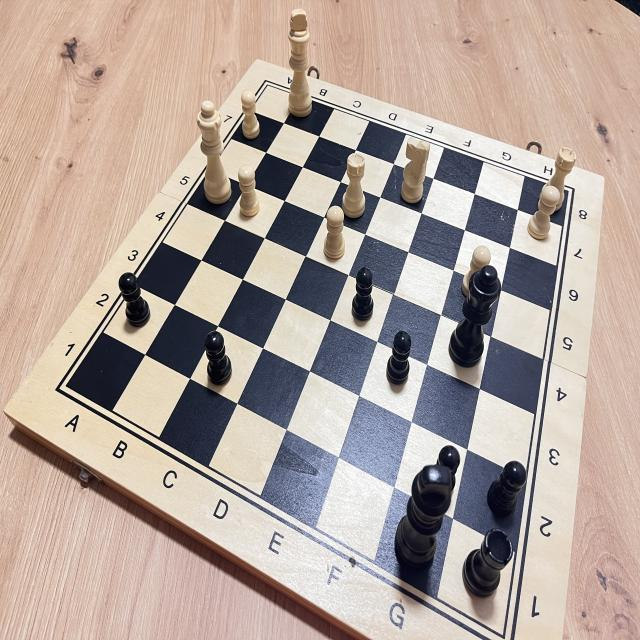black-king: (391, 454, 456, 590)
black-pawn: (484, 450, 529, 530), (428, 436, 466, 509), (199, 318, 238, 389), (114, 268, 155, 333), (385, 324, 415, 393), (350, 263, 380, 328)
black-queen: (444, 257, 504, 377)
black-rook: (456, 524, 517, 610)
white-king: (278, 2, 321, 124)
white-knight: (396, 129, 434, 210)
white-pawn: (523, 178, 566, 248), (458, 233, 494, 305), (236, 84, 268, 143), (320, 200, 348, 266), (235, 160, 262, 224)
white-queen: (190, 89, 237, 213)
white-rook: (334, 148, 374, 226), (538, 145, 580, 216)
